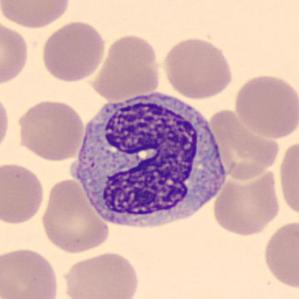Monocyte: (70, 84, 230, 236)
RBC: (38, 177, 112, 256), (205, 108, 284, 182), (210, 162, 282, 238), (88, 32, 164, 102), (160, 34, 235, 100), (14, 97, 86, 162), (232, 72, 298, 140), (39, 19, 107, 83), (60, 249, 141, 299), (0, 244, 61, 299), (0, 160, 47, 227), (260, 218, 299, 291), (0, 0, 73, 29), (0, 19, 31, 87), (276, 136, 299, 219), (0, 90, 12, 156)
